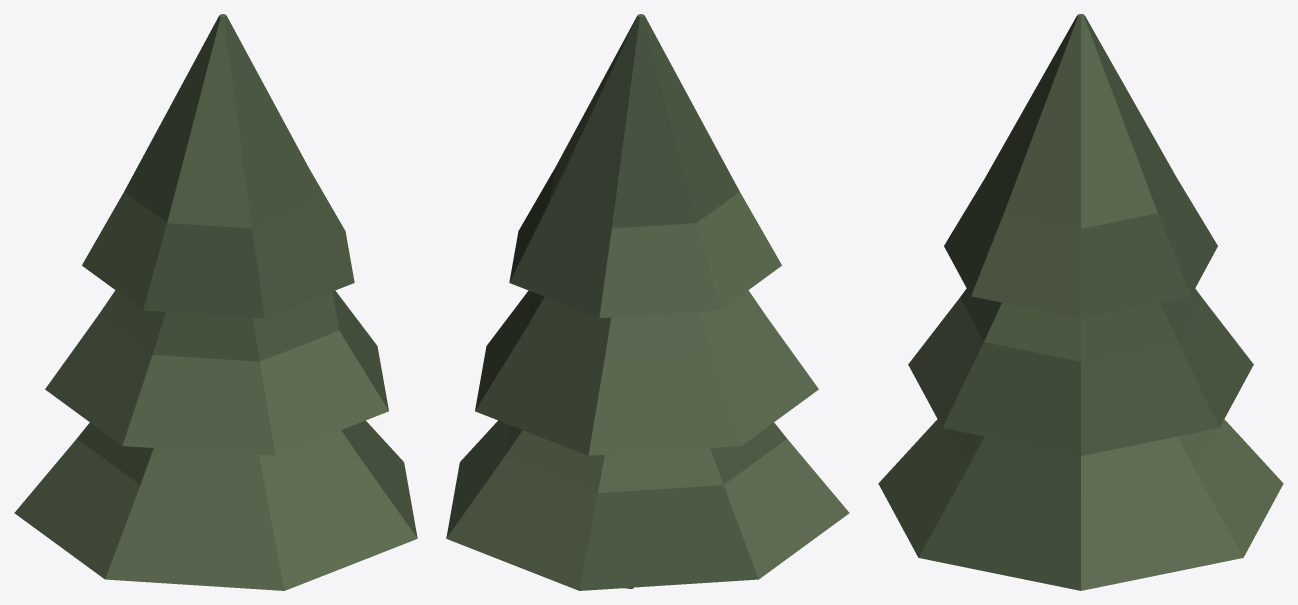
Rendered from kit_pine.glb.
3 renders of one model, left to right at view 1: azimuth 30°, elevation 25°; view 2: azimuth 150°, elevation 25°; view 3: azimuth 270°, elevation 25°, orthographic.
Visible parts, largest first — view 1: Angular pine crown, Angular pine crown.002, Angular pine crown.001; view 2: Angular pine crown, Angular pine crown.002, Angular pine crown.001; view 3: Angular pine crown, Angular pine crown.002, Angular pine crown.001.
Boxes of the visible parts, x1,y1,x2,y2 form: Angular pine crown: [14, 420, 417, 590]; Angular pine crown.002: [82, 14, 354, 318]; Angular pine crown.001: [45, 290, 388, 455]; Angular pine crown: [446, 420, 849, 590]; Angular pine crown.002: [509, 14, 781, 318]; Angular pine crown.001: [475, 290, 818, 455]; Angular pine crown: [878, 419, 1283, 590]; Angular pine crown.002: [944, 14, 1217, 318]; Angular pine crown.001: [908, 288, 1253, 455].
Size of the model in its own units: 1.55 by 2.4 by 1.59.
Materials: 5 (2 with a texture image).
